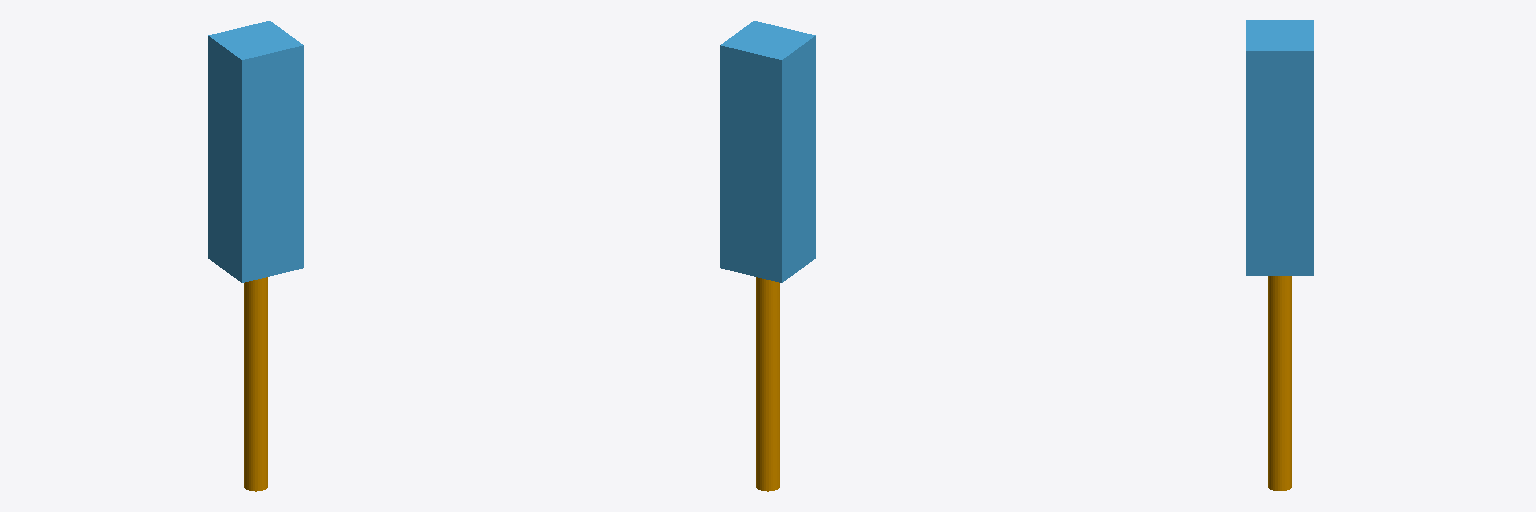
robot.urdf — screwdriver_on_the_table:
<?xml version="1.0" ?>
<!-- this is the one without any virtual joints and links -->
<robot name="screwdriver_on_the_table">
<link name="screwdriver_stick">
    <inertial>
      <mass value="0.05"/>
      <!-- <friction value="1.0"/> -->
      <inertia ixx="0.000041979" ixy="0.0" ixz="0.0" iyy="0.000041979" iyz="0.0" izz="0.000000625"/>
    </inertial>
    <visual>
        <origin rpy="0 0 0" xyz="0 0 0.05"/>
        <geometry>
            <cylinder radius="0.005" length="0.1"/>
        </geometry>
        <!-- <material name="White">
	 	    <color rgba="0.9 0.9 0.9 0.5"/>
        </material> -->
    </visual>
    <collision>
        <origin rpy="0 0 0" xyz="0 0 0.05"/>
        <geometry>
            <cylinder radius="0.005" length="0.1"/>
        </geometry>
    </collision>
</link>

<gazebo reference="screwdriver_body">
    <mu1>1.397457</mu1>
    <mu2>0.850622</mu2>
    <!-- Isaac Sim maps mu1/mu2 to PhysX static/dynamic friction during URDF→USD import -->
</gazebo>

<joint name="screwdriver_stick_body_joint" type="fixed">
    <parent link="screwdriver_stick"/>
    <child link="screwdriver_body"/>
    <origin rpy="0 0 0" xyz="0 0 0.1"/> 
    <axis xyz="0 0 1"/>
</joint>

<link name="screwdriver_body">
    <inertial>
      <mass value="0.109345"/>
      <inertia ixx="0.000098014" ixy="0.0" ixz="0.0" iyy="0.000098770" iyz="0.0" izz="0.000014543"/>
    </inertial>
    <visual>
        <origin rpy="0 0 0" xyz="0 0 0.05"/>
        <geometry>
            <box size="0.028973 0.027505 0.100000"/>
        </geometry>
        <!-- <material name="Red1">
	 	    <color rgba="0.9 0. 0. 0.5"/>
        </material> -->
    </visual>
    <collision>
        <origin rpy="0 0 0" xyz="0 0 0.05"/>
        <geometry>
            <box size="0.028973 0.027505 0.100000"/>
        </geometry>
    </collision>
</link>

<!-- <joint name="screwdriver_body_cap_joint" type="revolute">
    <parent link="screwdriver_body"/>
    <child link="screwdriver_cap"/>
    <origin rpy="0 0 0" xyz="0 0 0.1"/> 
    <axis xyz="0 0 1"/>
</joint>

<link name="screwdriver_cap">
    <inertial>
      <mass value="0.005"/>
      <inertia ixx="0.00001" ixy="0.0" ixz="0.0" iyy="0.000005" iyz="0.0" izz="0.000005"/>
    </inertial>
    <visual>
        <origin rpy="0 0 0" xyz="0 0 0.0006"/>
        <geometry>
            <cylinder radius="0.02" length="0.001"/>
        </geometry>
        <material name="Yellow">
	 	    <color rgba="0.9 0.9 0. 1.0"/>
        </material>
    </visual>
    <collision>
        <origin rpy="0 0 0" xyz="0 0 0.0005"/>
        <geometry>
            <cylinder radius="0.02" length="0.001"/>
        </geometry>
    </collision>
</link> -->

</robot>

--- Facts derived from the render (not from the file) ---
The picture shows the robot from 3 angles, left to right: view 1: azimuth 30°, elevation 25°; view 2: azimuth 150°, elevation 25°; view 3: azimuth 270°, elevation 25°; orthographic projection.
Robot: screwdriver_on_the_table — 2 links, 1 joints (1 fixed); root link screwdriver_stick; default pose: every joint at zero.
Links seen in each view (by area): view 1: screwdriver_body, screwdriver_stick; view 2: screwdriver_body, screwdriver_stick; view 3: screwdriver_body, screwdriver_stick.
Link boxes in pixels (<box>): screwdriver_body: <box>208,21,303,282</box>; screwdriver_stick: <box>244,277,267,491</box>; screwdriver_body: <box>720,21,815,282</box>; screwdriver_stick: <box>756,277,779,491</box>; screwdriver_body: <box>1246,20,1313,275</box>; screwdriver_stick: <box>1268,276,1291,490</box>.
Size in the robot's own frame: 0.029 by 0.0275 by 0.2 metres.
Geometry: primitives only (box / cylinder / sphere), no mesh files.
